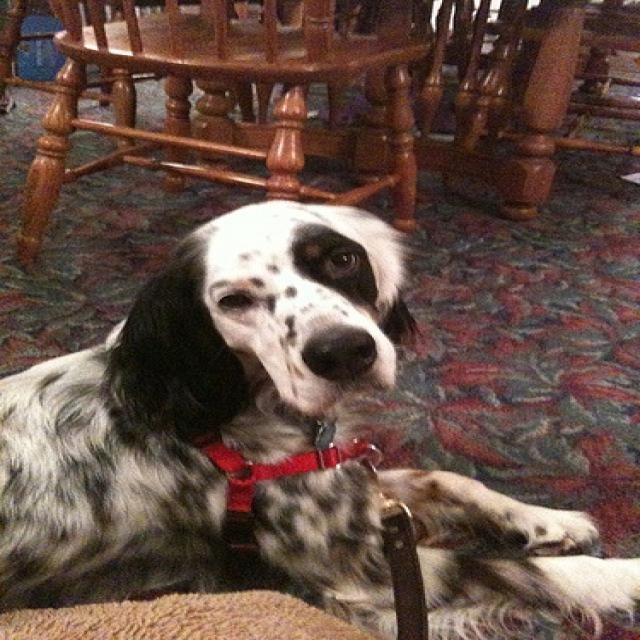dog-english_setter: (2, 191, 637, 637)
